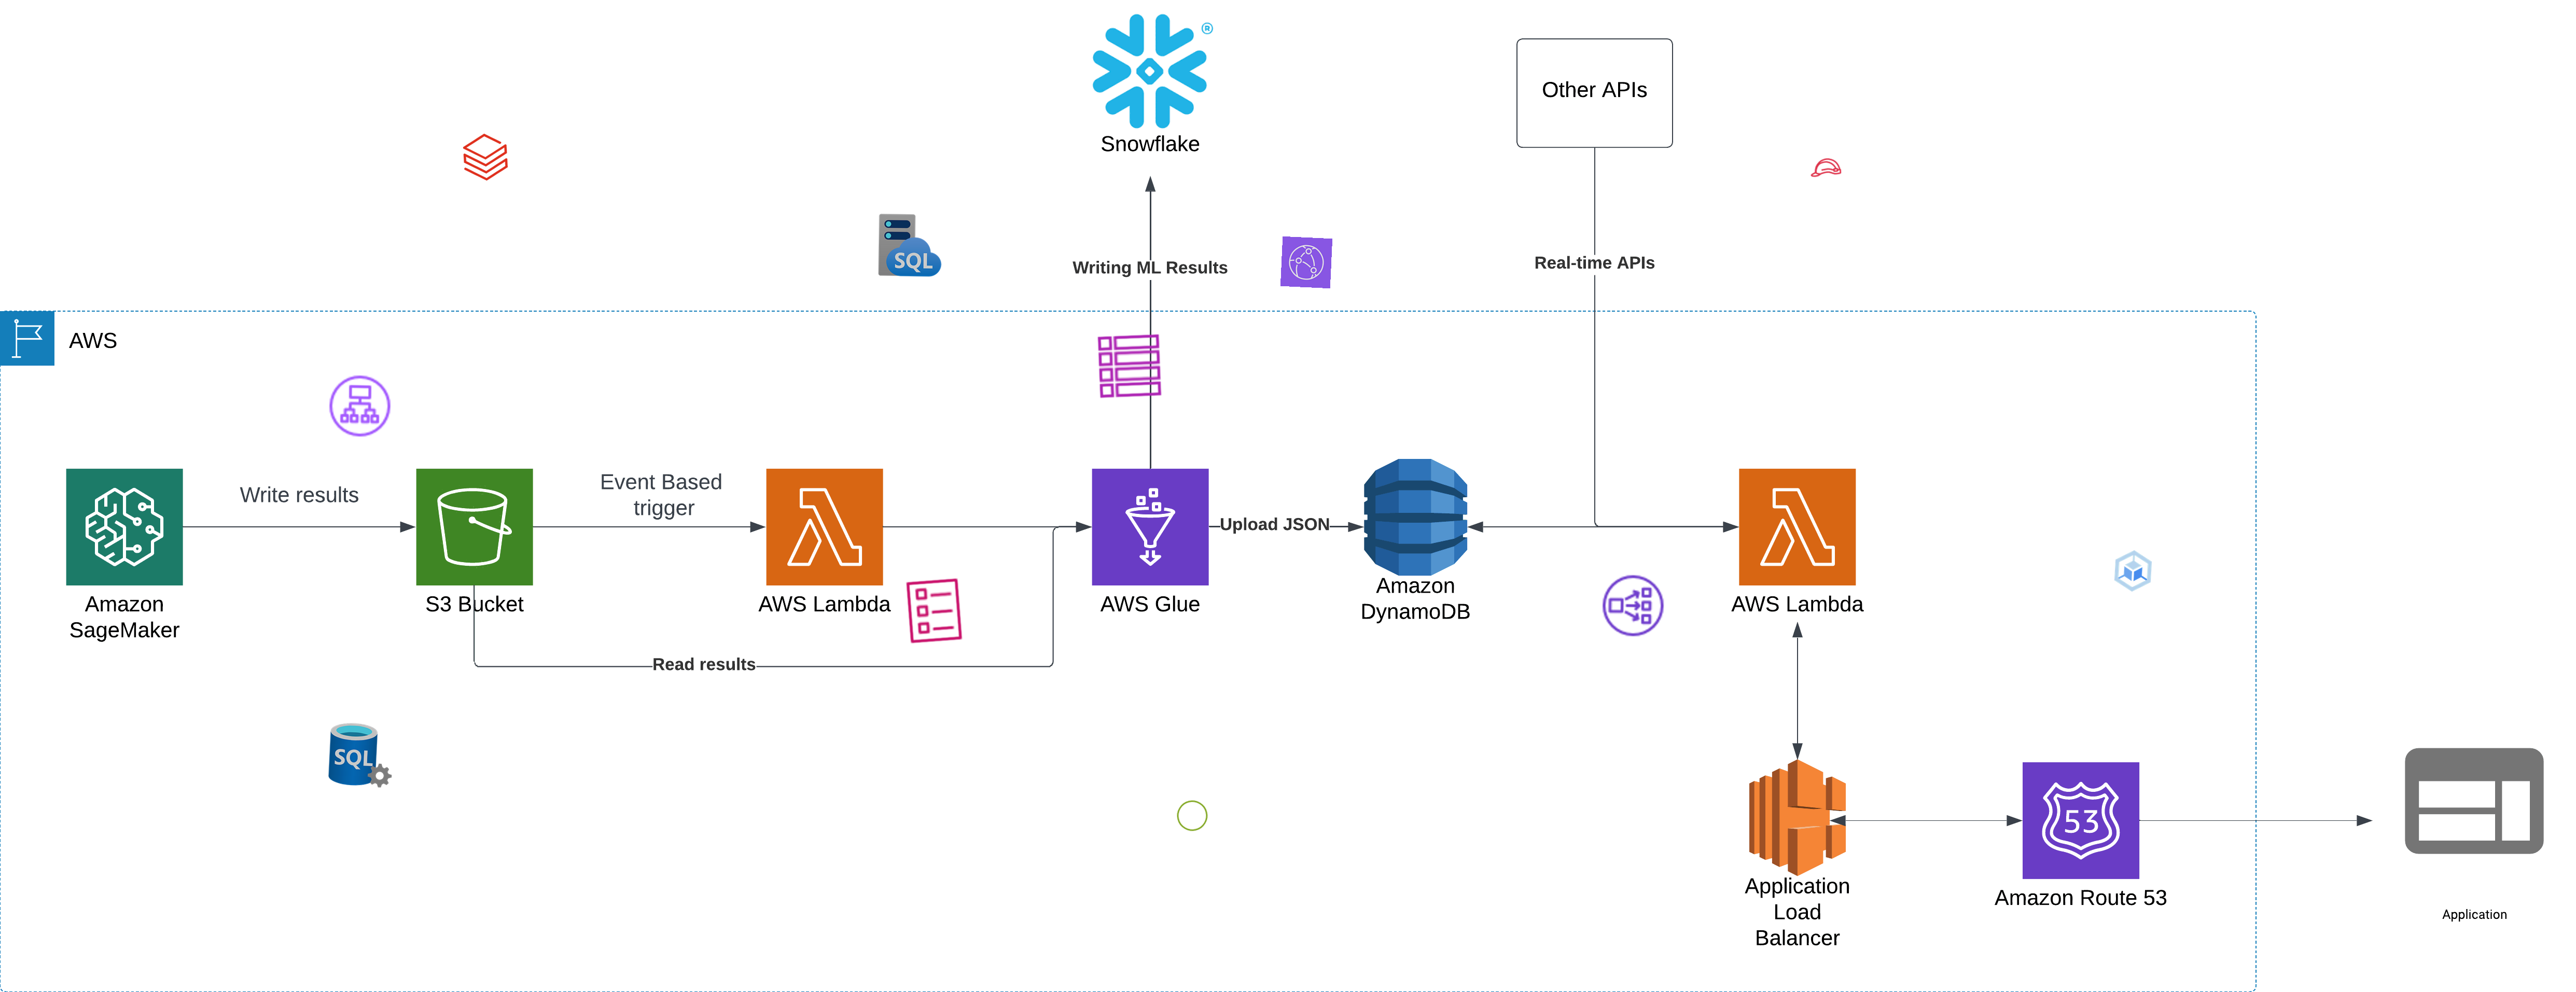aws_amazon_cloudfront: (1280, 237, 1332, 289)
aws_cloudformation_template: (897, 575, 969, 647)
aws_dynamodb_table: (1094, 332, 1165, 401)
aws_elastic_load_balancing_application_load_balancer: (325, 371, 394, 440)
aws_elastic_load_balancing_network_load_balancer: (1600, 572, 1667, 639)
aws_identity_access_management_role: (1807, 149, 1843, 186)
aws_simple_storage_service_object: (1175, 798, 1209, 833)
azure_databricks: (458, 131, 513, 184)
azure_sql_managed_instance: (877, 212, 945, 279)
azure_sql_server: (325, 719, 396, 790)
gcp_google_kubernetes_engine: (2106, 545, 2160, 598)
